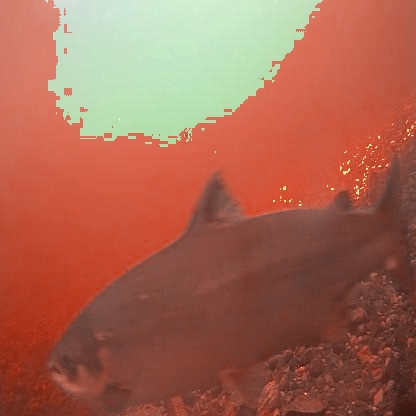salmon: (43, 143, 416, 414)
